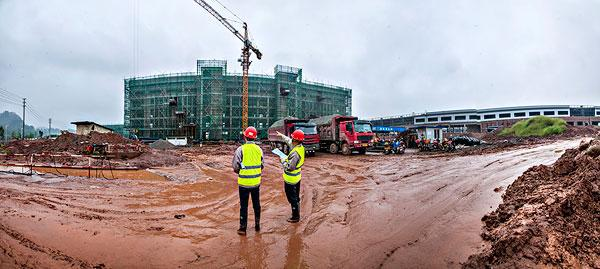helmet: (242, 125, 258, 145), (292, 128, 306, 145)
